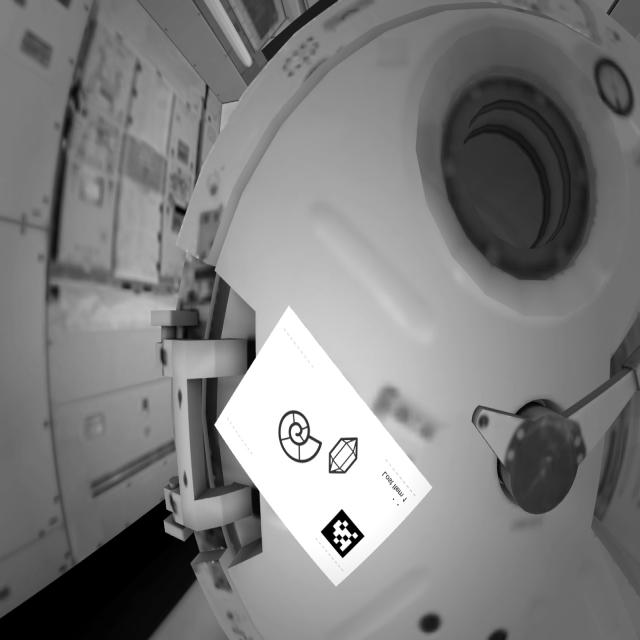crystal: (323, 432, 367, 482)
fossil: (275, 403, 326, 467)
